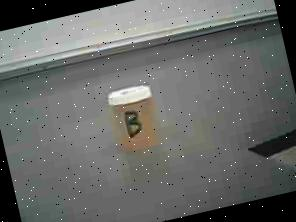Bottle B: (104, 77, 174, 162)
